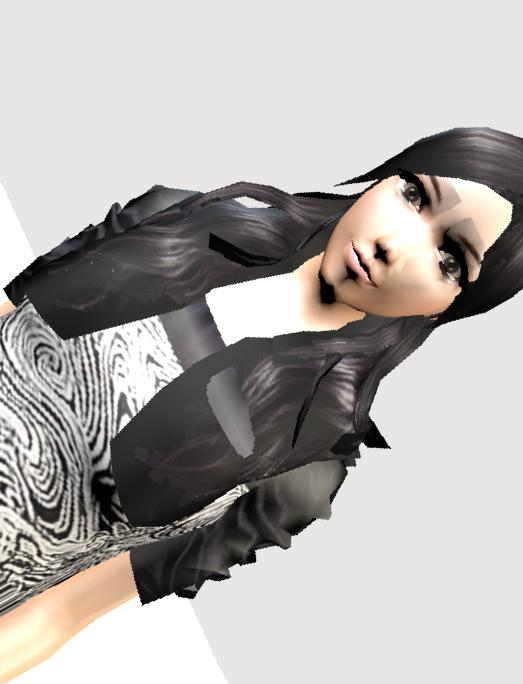clip: (202, 367, 248, 419)
